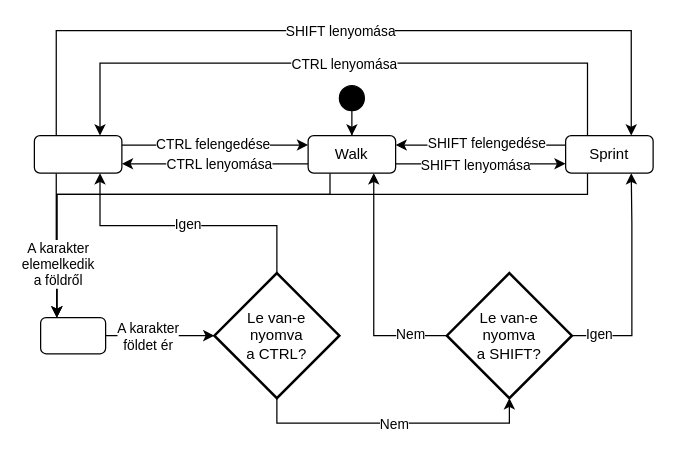
Some shapes in this 675 by 455 pixel diagram are drawn without their labels. Here are the shapes that lost their labels. From the top down, the centre of each, then its label:
At point (77, 153): "Crouch".
At point (72, 335): "Air".
